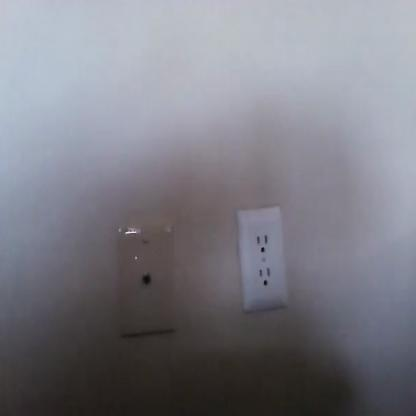OUTLET: (238, 210, 288, 308)
